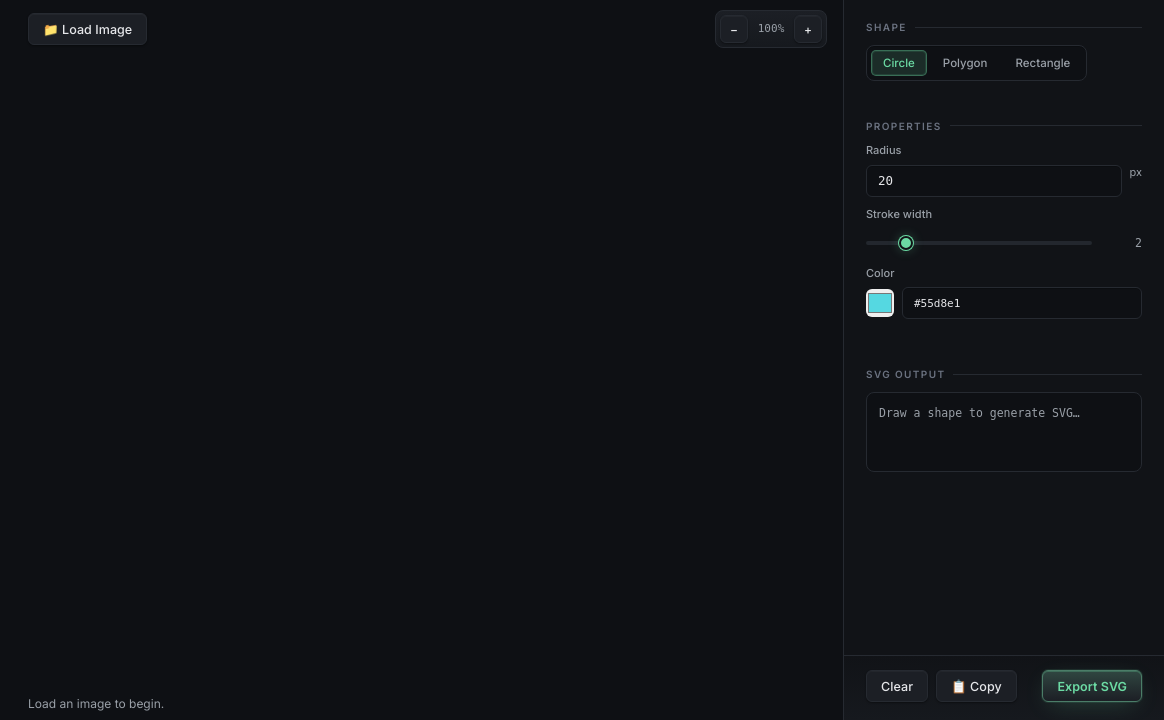
Test: SvgGenerator › hides Radius field for Polygon mode
The image size is (1164, 720).
Click the button "Polygon".
click(965, 62)  # box [931,50,1000,76]
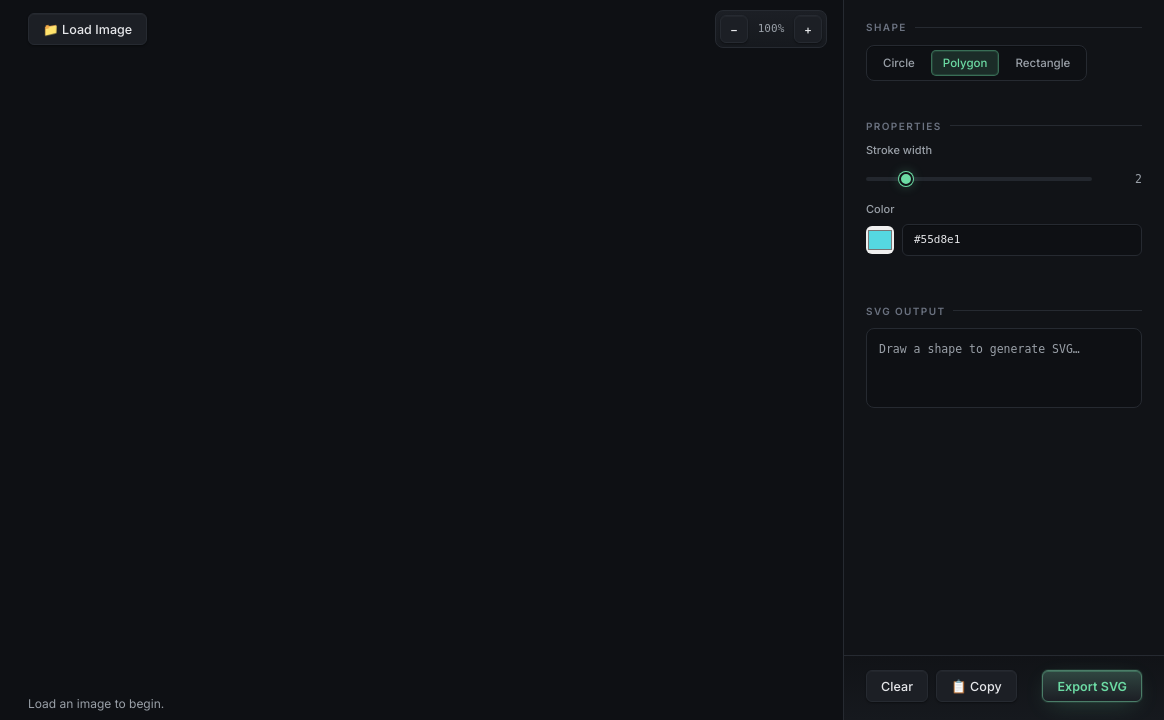
Result: the text "Radius" is gone
